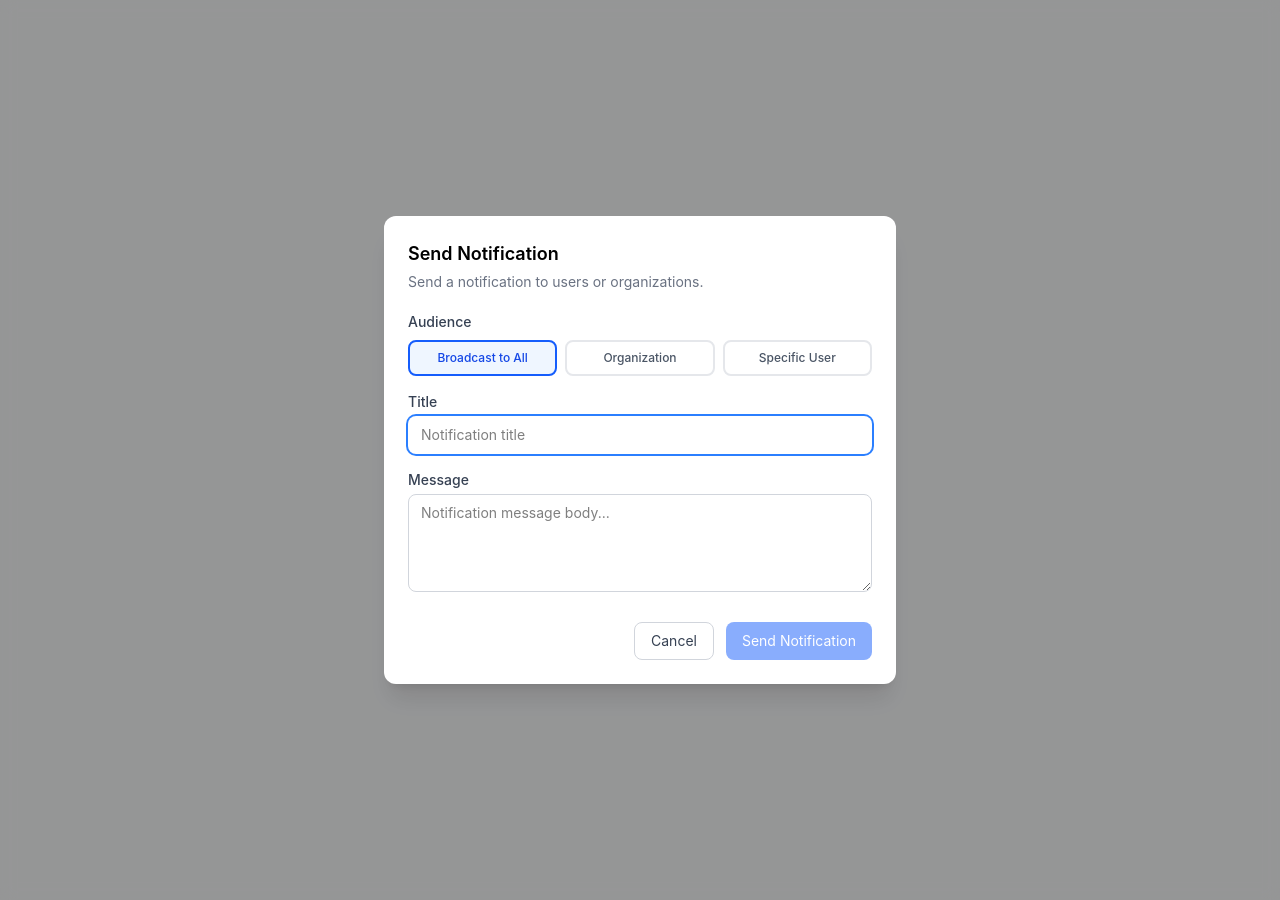
Scenario: SendNotificationDialog › shows user search input when user scope is selected
Click the button "Specific User".
click(797, 358)  # box [723,340,872,376]
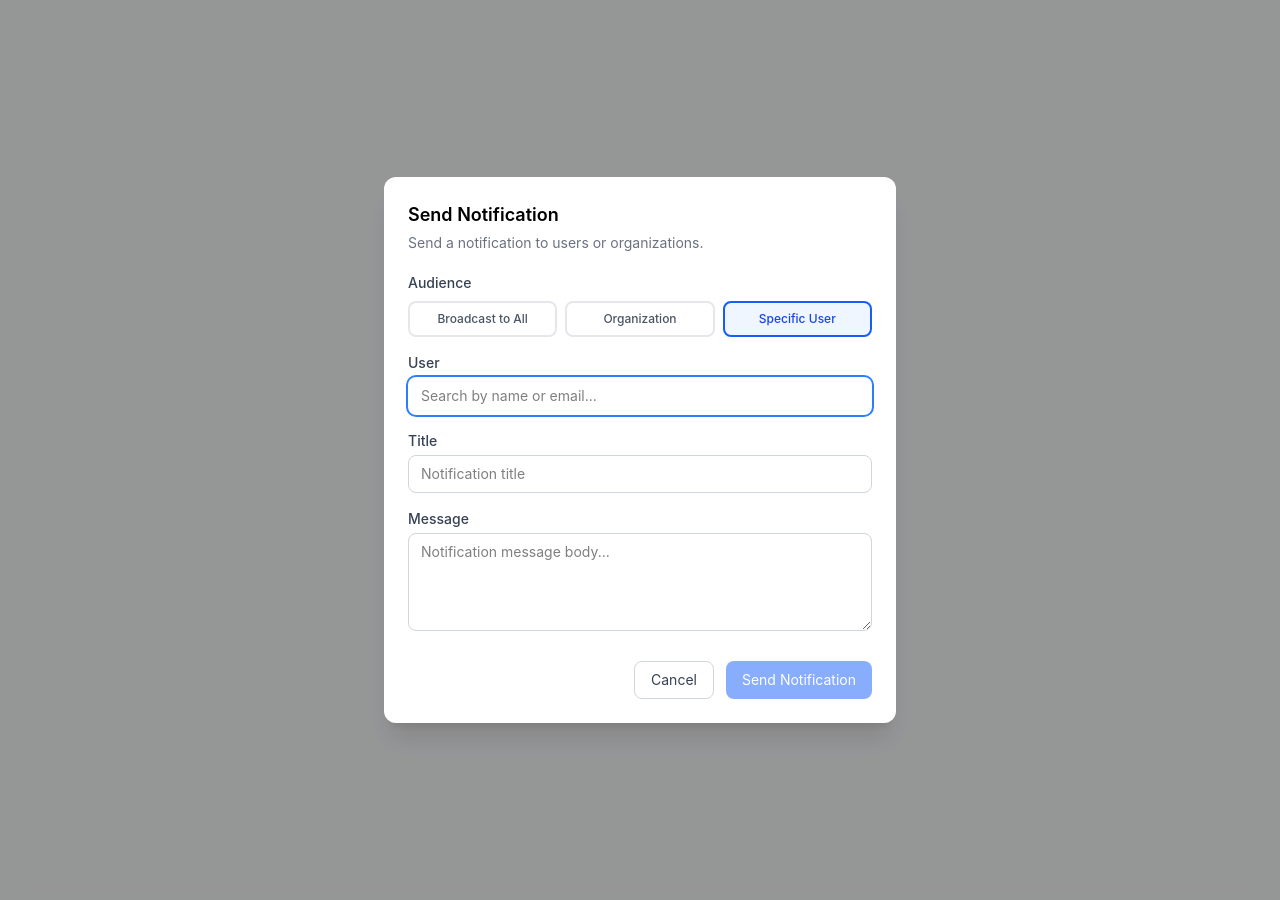
Expected: the field with placeholder "Search by name or email..." is shown, [408,377,872,415]
